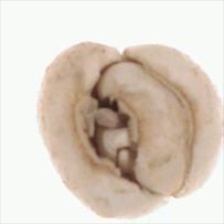L3: (82, 53, 194, 198)
L4: (38, 42, 222, 219)
